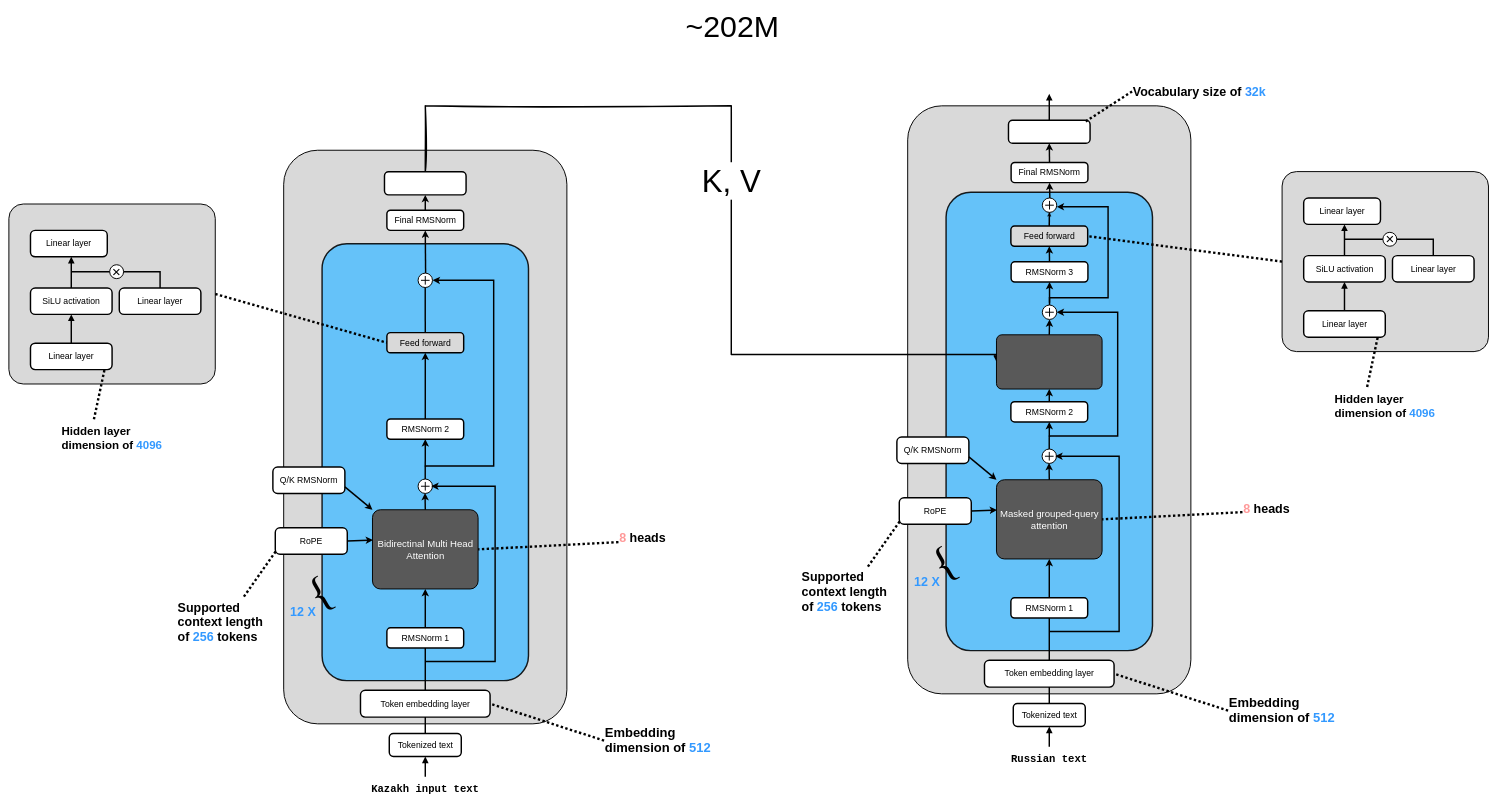
Image size: 1497x809. Some labels were removed from this diagram. Here are the shapes that lost their labels. From the top down, the centre of each, then its label:
At point 1049,131: "Linear output layer".
At point 425,183: "Encoder out".
At point 1049,361: "Cross attention".
